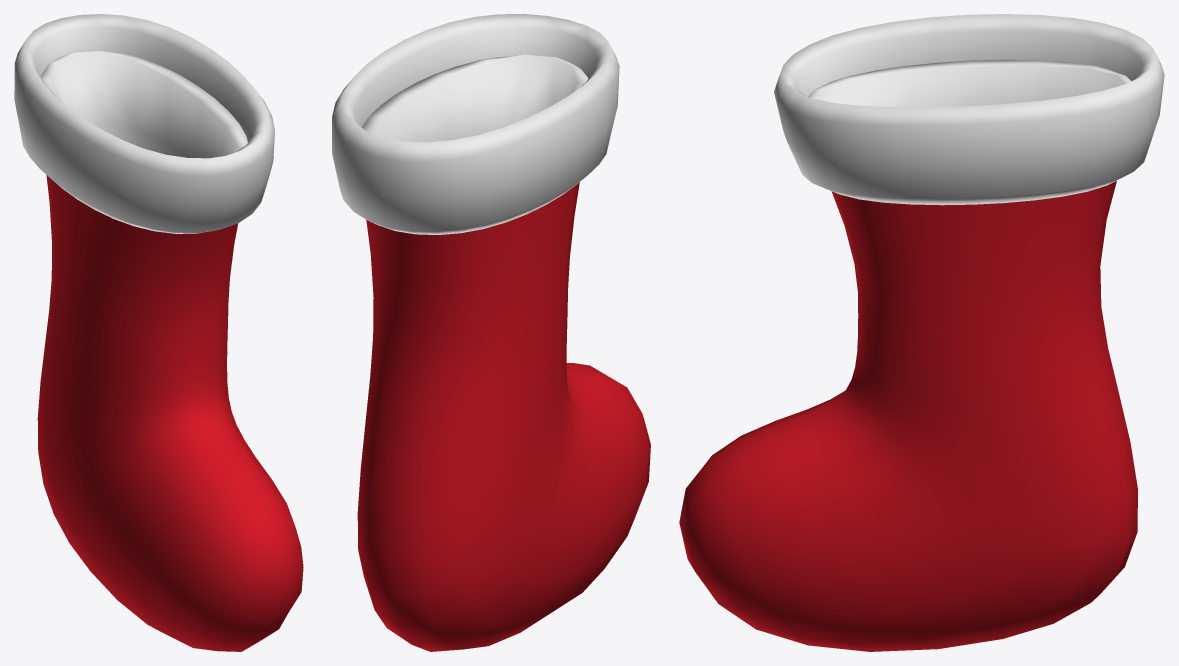
Rendered from christmas-stocking.fbx.
3 views of the same model, side by side, from view 1: azimuth 30°, elevation 25°; view 2: azimuth 150°, elevation 25°; view 3: azimuth 270°, elevation 25° (orthographic). The views are drawn at different scales.
Visible parts, largest first — view 1: Cube; view 2: Cube; view 3: Cube.
Part boxes in pixels (<box>): Cube: <box>14,14,303,651</box>; Cube: <box>332,14,650,651</box>; Cube: <box>679,14,1164,651</box>.
Bounding box in the file's own units: 19.2 × 51.08 × 38.24.
